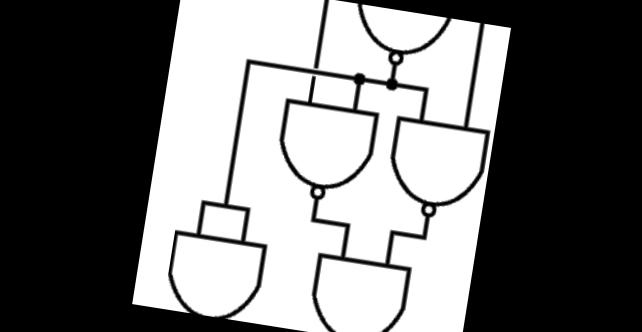nand: (149, 214, 281, 325), (375, 108, 496, 227), (264, 88, 382, 208), (298, 246, 418, 332), (340, 2, 458, 76)
